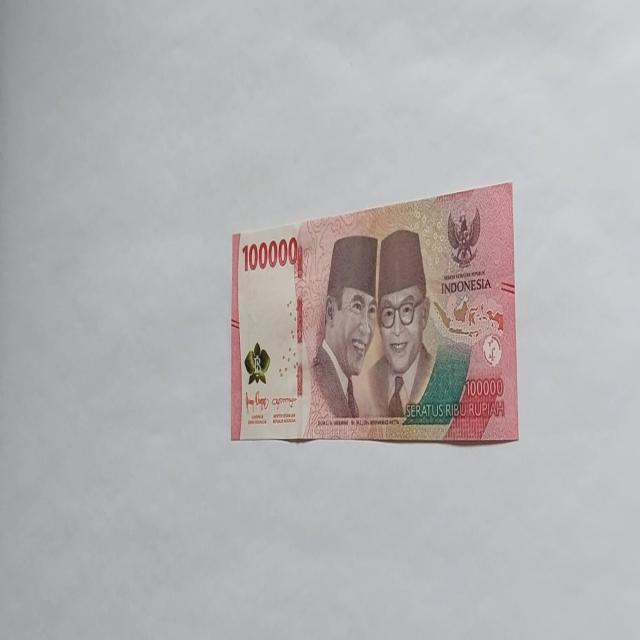seratus ribu rupiah: (230, 180, 518, 444)
